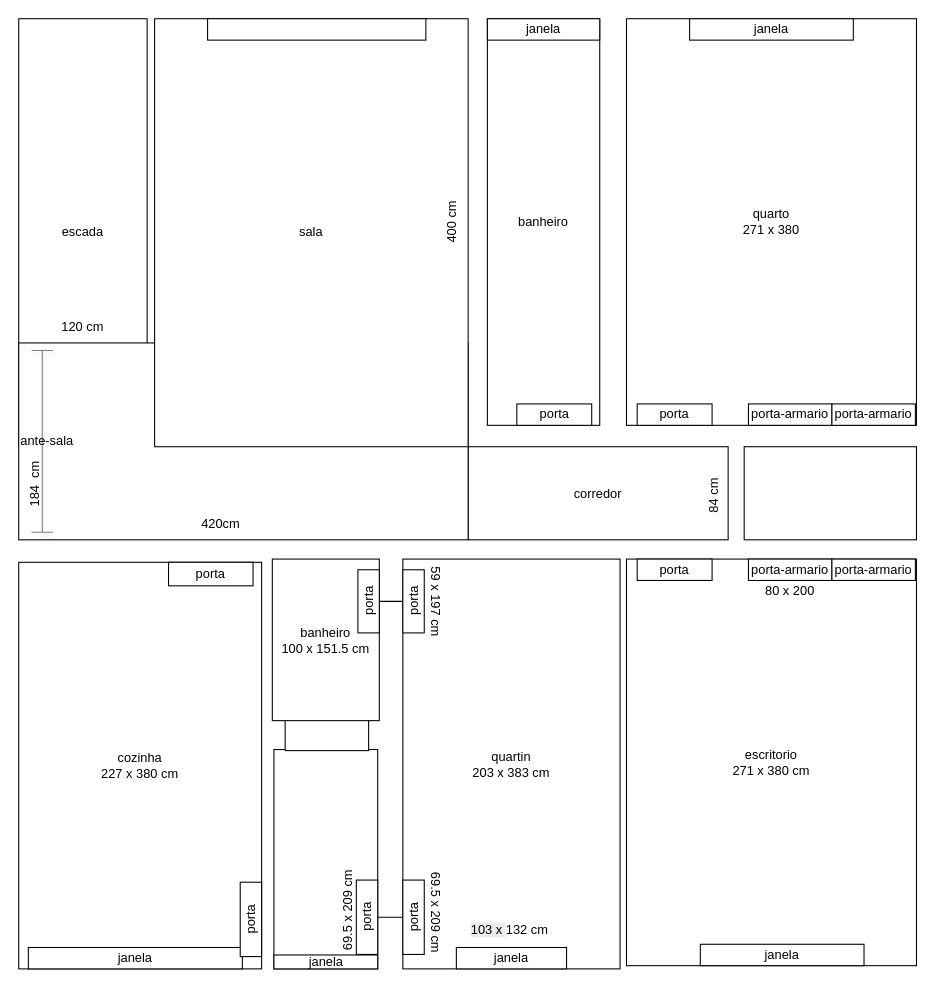
This 935x988 diagram has some shape labels left out. Each missing label, with the centre of its shape:
"combobo" belongs at (x=326, y=734).
"porta varanda" belongs at (x=316, y=29).
